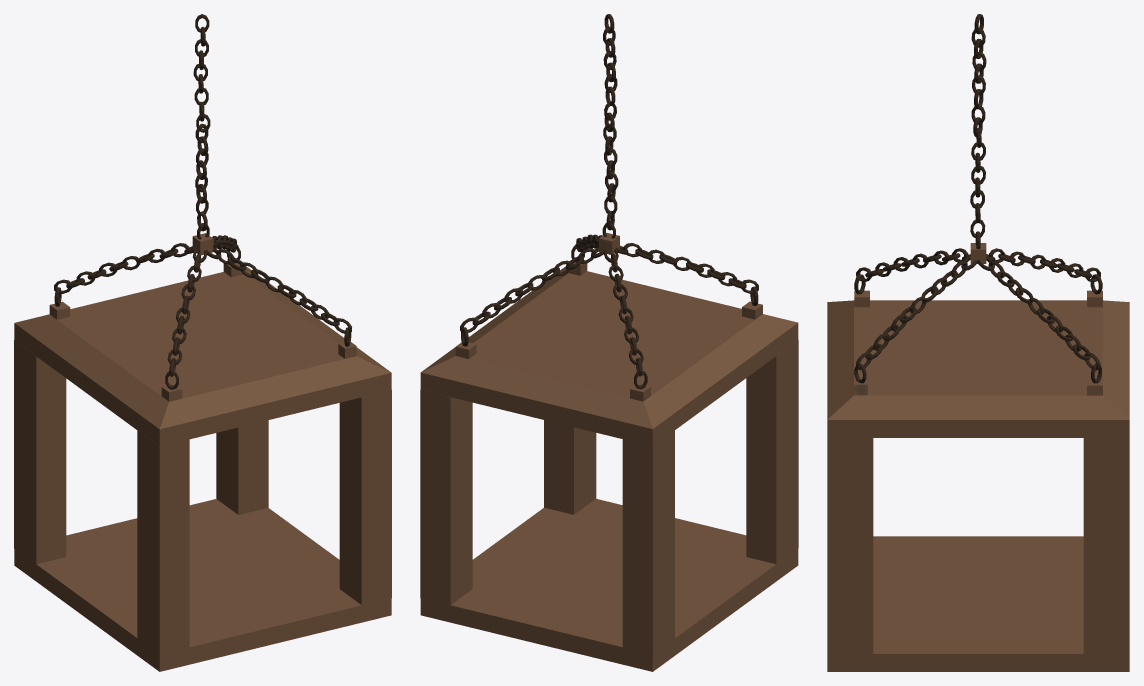
The model's file is C_Ascensor.obj.
The picture shows the model from 3 angles, left to right: view 1: azimuth 30°, elevation 25°; view 2: azimuth 150°, elevation 25°; view 3: azimuth 270°, elevation 25°; orthographic projection. The views are drawn at different scales.
Parts seen in each view (by area): view 1: C_Ascensor; view 2: C_Ascensor; view 3: C_Ascensor.
Part boxes in pixels (left/top/right/bottom): C_Ascensor: left=14, top=14, right=391, bottom=671; C_Ascensor: left=420, top=14, right=798, bottom=671; C_Ascensor: left=827, top=14, right=1129, bottom=671.
Size of the model in its own units: 3.5 by 8.31 by 3.8.
